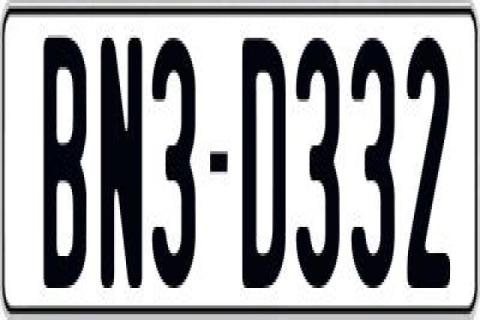0: (406, 32, 454, 300), (148, 35, 198, 291), (348, 38, 396, 294), (294, 35, 338, 288)
B: (42, 38, 86, 297)
D: (242, 38, 284, 302)
N: (98, 35, 140, 303)
